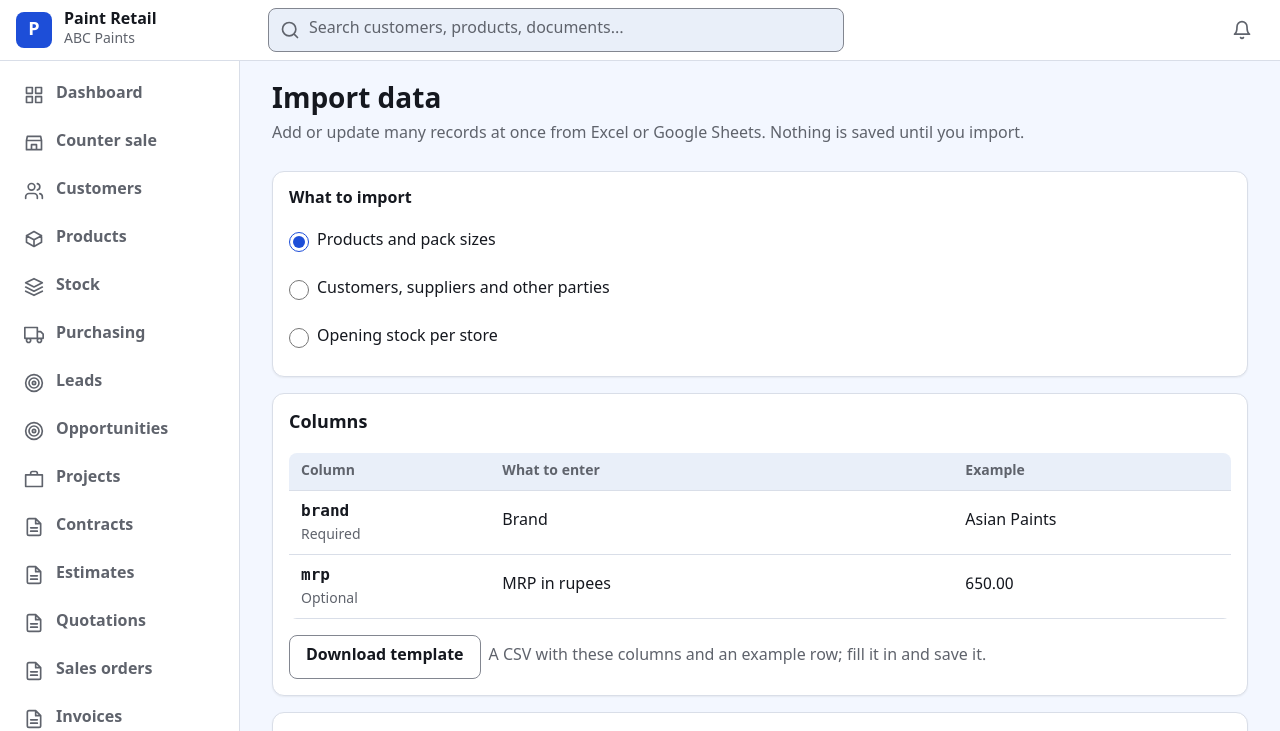
Test: ImportsPage › offers each kind with its columns and a template to download
Expected: the radio button labelled "Products and pack sizes" is checked, [289,232,309,252]
Expected: the rows read "ColumnWhat to enterExample", "brandRequiredBrandAsian Paints", "mrpOptionalMRP in rupees650.00", in this order, [289,453,1231,490]; [289,491,1231,554]; [289,554,1231,618]
Click the button "Download template".
click(385, 657)  # box [289,635,481,679]
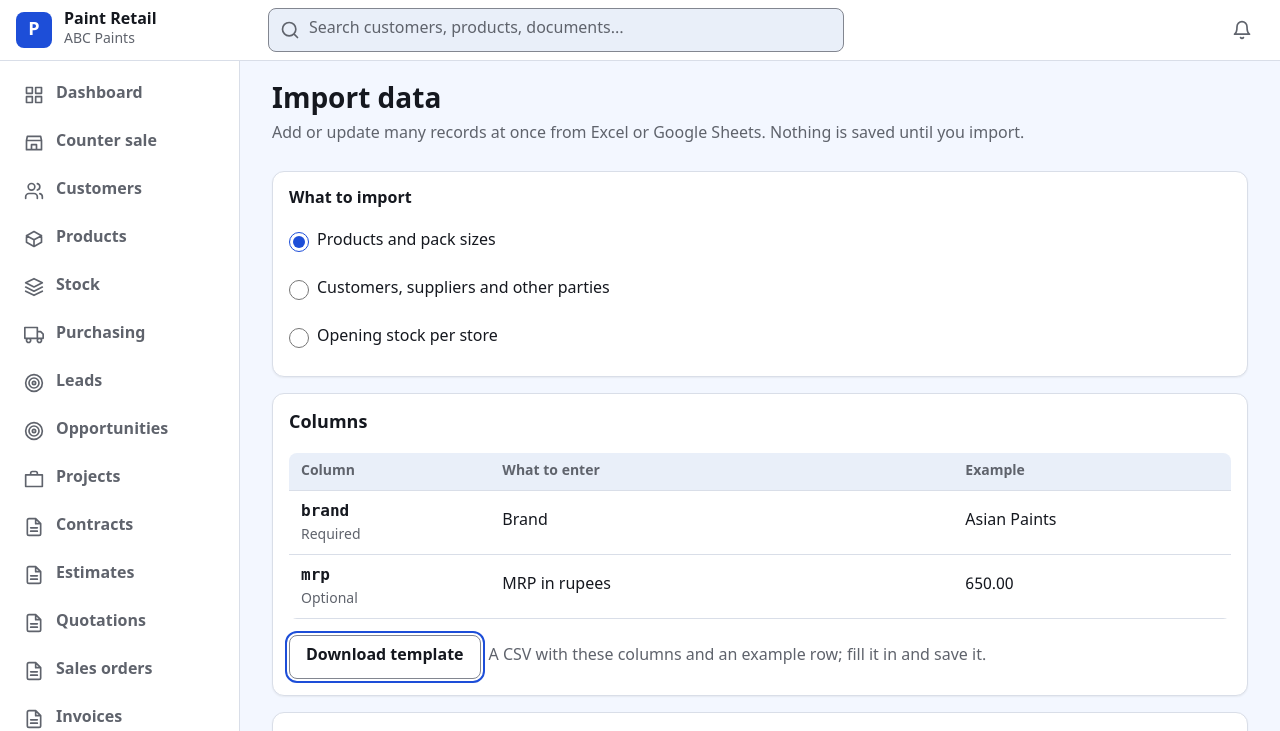
Click the radio button labelled "Opening stock per store".
click(299, 338)  # box [289,328,309,348]
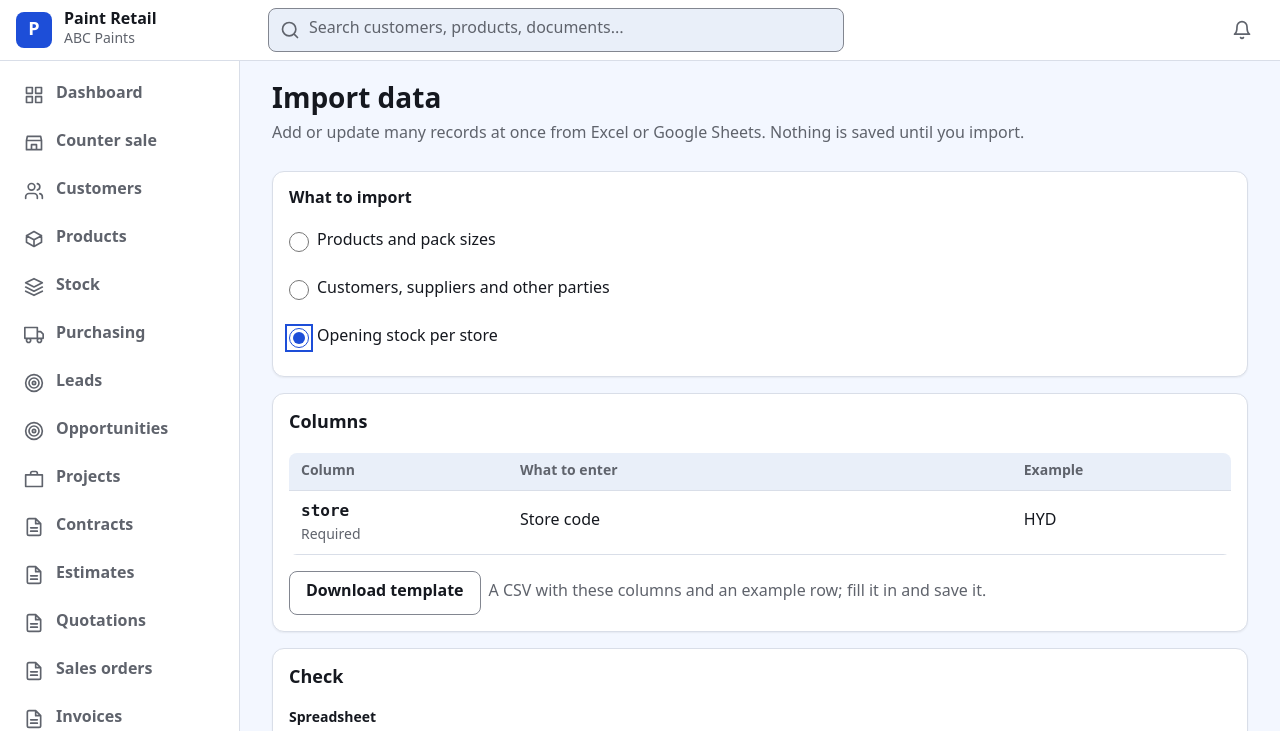
Now the table named "Columns for Opening stock per store" shows "Store code", box [520,511,600,532]
